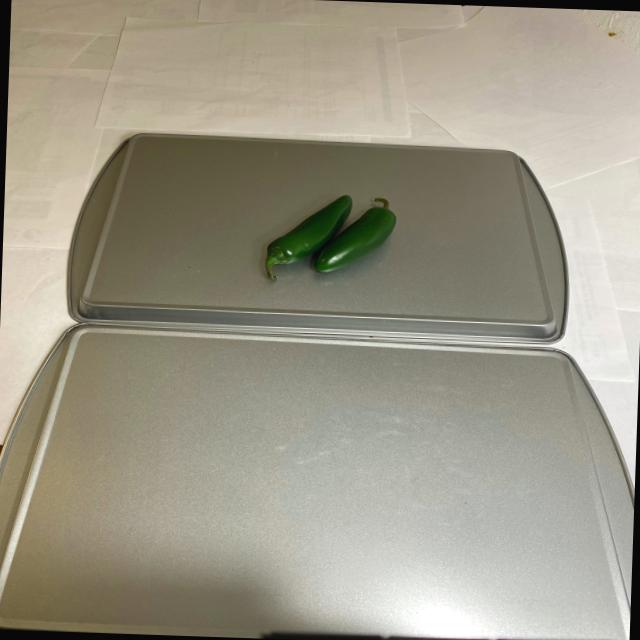chilli: (256, 190, 398, 286)
